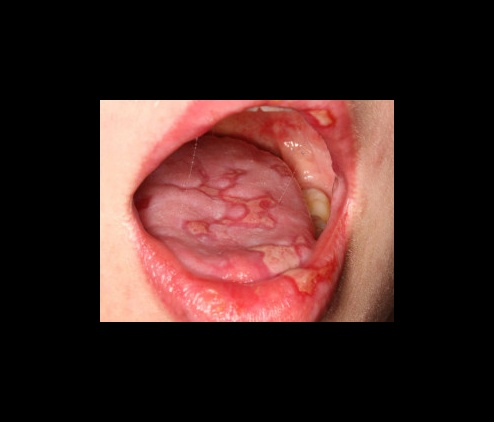SJS-TEN: (242, 209, 346, 308), (178, 161, 289, 248), (303, 94, 342, 136)
